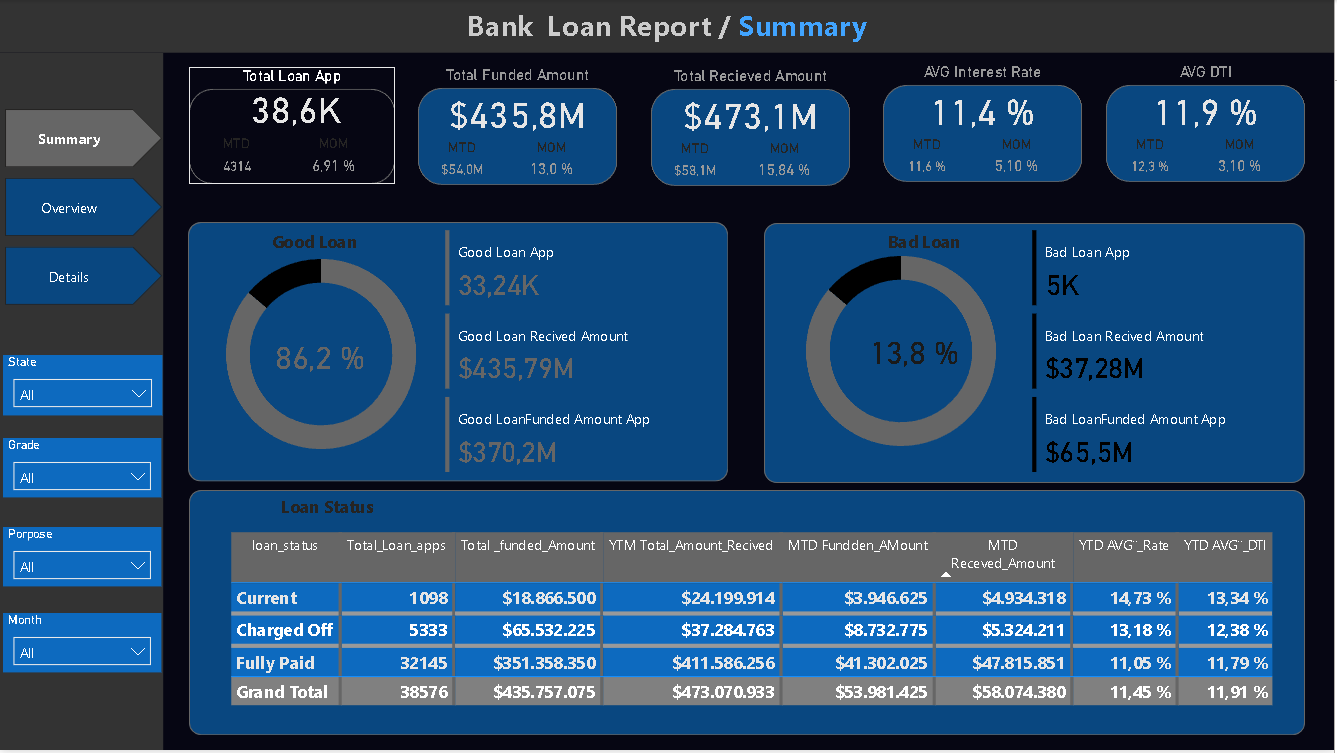

Layout of this report page (visuals, bound fields, positions):
{"tool":"powerbi","page":{"name":"Summary","canvas":[1280,720],"ordinal":0},"visuals":[{"type":"shape","title":"AVG Interest Rate","box":[847,60.4,191.3,114.3],"z":0,"group":"g5"},{"type":"shape","title":"AVG DTI","box":[1061.5,60.4,191.3,114.3],"z":0,"group":"g4"},{"type":"shape","title":"Total Funded Amount","box":[401.2,63.4,191.3,114.3],"z":0,"group":"g2"},{"type":"shape","title":"Total Recieved Amount ","box":[624.6,64.1,191.3,114.3],"z":0,"group":"g3"},{"type":"shape","title":"Total Loan App","box":[181.3,64.3,197.8,112.3],"z":0,"group":"g1"},{"type":"shape","box":[180.1,212.7,518.3,249.1],"z":0},{"type":"card","fields":{"Values":["bank-data.Total_Loan_apps"]},"box":[191.8,76.5,185.4,52.6],"z":1000,"group":"g1"},{"type":"card","fields":{"Values":["bank-data.YTD AVG¨_Rate"]},"box":[857.5,80,169.2,50.1],"z":1000,"group":"g5"},{"type":"card","fields":{"Values":["bank-data.YTD AVG¨_DTI"]},"box":[1072,80,169.2,50.1],"z":1000,"group":"g4"},{"type":"card","fields":{"Values":["bank-data.Total _funded_Amount"]},"box":[411.7,83,169.2,50.1],"z":1000,"group":"g2"},{"type":"card","fields":{"Values":["bank-data.YTM Total_Amount_Recived"]},"box":[635.1,83.7,169.2,50.1],"z":1000,"group":"g3"},{"type":"donutChart","fields":{"Category":["bank-data.Good vs Bad Loan"],"Y":["bank-data.Total_Loan_apps"]},"box":[176.4,220.3,263.1,238],"z":1000},{"type":"shape","box":[0,0,1280,50.6],"z":2000},{"type":"card","title":"MTD ","fields":{"Values":["bank-data.MTD Loan_App"]},"box":[191.8,129.1,70.2,46.9],"z":2000,"group":"g1"},{"type":"card","title":"MTD ","fields":{"Values":["bank-data.MTD AVG_Rate"]},"box":[857.5,130,64.1,44.6],"z":2000,"group":"g5"},{"type":"card","title":"MTD ","fields":{"Values":["bank-data.MTD AVG_DTI"]},"box":[1072,130,64.1,44.6],"z":2000,"group":"g4"},{"type":"card","title":"MTD ","fields":{"Values":["bank-data.MTD Fundden_AMount"]},"box":[411.7,133,64.1,44.6],"z":2000,"group":"g2"},{"type":"card","title":"MTD ","fields":{"Values":["bank-data.MTD Receved_Amount"]},"box":[635.1,133.7,64.1,44.6],"z":2000,"group":"g3"},{"type":"shape","box":[0,50.6,156.6,669.2],"z":3000},{"type":"card","title":"MOM","fields":{"Values":["bank-data.MOM Loan_App"]},"box":[285,129.1,70.2,46.9],"z":3000,"group":"g1"},{"type":"card","title":"MOM","fields":{"Values":["bank-data.MOM AVG_Rate"]},"box":[942.6,130,64.1,44.6],"z":3000,"group":"g5"},{"type":"card","title":"MOM","fields":{"Values":["bank-data.MOM AVG_DTI"]},"box":[1157.1,130,64.1,44.6],"z":3000,"group":"g4"},{"type":"card","title":"MOM","fields":{"Values":["bank-data.MOM Total_Funded_amount"]},"box":[496.8,133,64.1,44.6],"z":3000,"group":"g2"},{"type":"card","title":"MOM","fields":{"Values":["bank-data.MOM Total_Receved_amount"]},"box":[720.2,133.7,64.1,44.6],"z":3000,"group":"g3"},{"type":"card","fields":{"Values":["bank-data.Good Loan %"]},"box":[245.4,317.4,122.2,47],"z":4000},{"type":"textbox","box":[408.5,0,463,50.6],"z":5000},{"type":"group","id":"g1","title":"Group 1","box":[181.3,64.3,197.7,112.3],"z":6000},{"type":"group","id":"g2","title":"Group 1","box":[401.2,63.4,190.8,114.3],"z":7000},{"type":"group","id":"g3","title":"Group 1","box":[624.6,64.1,190.8,113.3],"z":8000},{"type":"group","id":"g4","title":"Group 1","box":[1061.5,60.4,190.3,113.8],"z":9000},{"type":"group","id":"g5","title":"Group 1","box":[847,60.4,191.3,113.8],"z":10000},{"type":"shape","box":[732.9,214,518.9,249.5],"z":11000},{"type":"cardVisual","fields":{"Data":["bank-data.Good Loan App","bank-data.Good Loan Receved Amount","bank-data.Good L oanFunded Amount App"]},"box":[421.8,216.1,258.9,242.2],"z":12000},{"type":"textbox","box":[196.1,216.2,212.2,34.2],"z":13000},{"type":"textbox","box":[758,216.1,257.9,34.5],"z":14000},{"type":"shape","box":[181,470.6,1070.9,235.3],"z":15000},{"type":"donutChart","fields":{"Category":["bank-data.Good vs Bad Loan"],"Y":["bank-data.Total_Loan_apps"]},"box":[733.1,217.8,262.9,238],"z":16000},{"type":"card","fields":{"Values":["bank-data.Bad Loan %"]},"box":[815.4,313.2,122.2,47],"z":17000},{"type":"cardVisual","fields":{"Data":["bank-data.Bad Loan App","bank-data.Bad Loan Recived Amount","bank-data.Bad LoanFunded Amount App"]},"box":[985.6,216.1,258.9,242.2],"z":18000},{"type":"tableEx","fields":{"Values":["bank-data.loan_status","bank-data.Total_Loan_apps","bank-data.Total _funded_Amount","bank-data.YTM Total_Amount_Recived","bank-data.MTD Fundden_AMount","bank-data.MTD Receved_Amount","bank-data.YTD AVG¨_Rate","bank-data.YTD AVG¨_DTI"]},"box":[216.2,505.8,1016.6,183],"z":19000},{"type":"textbox","box":[206.1,470.6,215.2,35.2],"z":20000},{"type":"slicer","title":"State","fields":{"Values":["bank-data.address_state"]},"box":[2.9,340.6,152.6,57.6],"z":21000},{"type":"slicer","title":"Grade","fields":{"Values":["bank-data.grade"]},"box":[2.9,420.3,151.6,56.6],"z":22000},{"type":"slicer","title":"Porpose","fields":{"Values":["bank-data.purpose"]},"box":[2.9,505.7,151.6,56.6],"z":23000},{"type":"slicer","title":"Month","fields":{"Values":["Date_Table.Month"]},"box":[2.9,588.2,151.6,56.6],"z":24000},{"type":"pageNavigator","box":[4.8,104.6,151.6,188.1],"z":25000}]}

Visuals, with their boxes in screenshot pixels (x1, y1, x2, y2), scaled from the page's 1280x720 canvas onto the 1337x753 screenshot:
"AVG Interest Rate" shape: (x1=885, y1=63, x2=1085, y2=183)
"AVG DTI" shape: (x1=1109, y1=63, x2=1309, y2=183)
"Total Funded Amount" shape: (x1=419, y1=66, x2=619, y2=186)
"Total Recieved Amount " shape: (x1=652, y1=67, x2=852, y2=187)
"Total Loan App" shape: (x1=189, y1=67, x2=396, y2=185)
shape: (x1=188, y1=222, x2=730, y2=483)
card - bank-data.Total_Loan_apps: (x1=200, y1=80, x2=394, y2=135)
card - bank-data.YTD AVG¨_Rate: (x1=896, y1=84, x2=1072, y2=136)
card - bank-data.YTD AVG¨_DTI: (x1=1120, y1=84, x2=1296, y2=136)
card - bank-data.Total _funded_Amount: (x1=430, y1=87, x2=607, y2=139)
card - bank-data.YTM Total_Amount_Recived: (x1=663, y1=88, x2=840, y2=140)
donutChart - bank-data.Good vs Bad Loan x bank-data.Total_Loan_apps: (x1=184, y1=230, x2=459, y2=479)
shape: (x1=0, y1=0, x2=1336, y2=53)
"MTD " card: (x1=200, y1=135, x2=274, y2=184)
"MTD " card: (x1=896, y1=136, x2=963, y2=183)
"MTD " card: (x1=1120, y1=136, x2=1187, y2=183)
"MTD " card: (x1=430, y1=139, x2=497, y2=186)
"MTD " card: (x1=663, y1=140, x2=730, y2=186)
shape: (x1=0, y1=53, x2=164, y2=752)
"MOM" card: (x1=298, y1=135, x2=371, y2=184)
"MOM" card: (x1=985, y1=136, x2=1052, y2=183)
"MOM" card: (x1=1209, y1=136, x2=1276, y2=183)
"MOM" card: (x1=519, y1=139, x2=586, y2=186)
"MOM" card: (x1=752, y1=140, x2=819, y2=186)
card - bank-data.Good Loan %: (x1=256, y1=332, x2=384, y2=381)
textbox: (x1=427, y1=0, x2=910, y2=53)
"Group 1" group: (x1=189, y1=67, x2=396, y2=185)
"Group 1" group: (x1=419, y1=66, x2=618, y2=186)
"Group 1" group: (x1=652, y1=67, x2=852, y2=186)
"Group 1" group: (x1=1109, y1=63, x2=1308, y2=182)
"Group 1" group: (x1=885, y1=63, x2=1085, y2=182)
shape: (x1=766, y1=224, x2=1308, y2=485)
cardVisual - bank-data.Good Loan App x bank-data.Good Loan Receved Amount: (x1=441, y1=226, x2=711, y2=479)
textbox: (x1=205, y1=226, x2=426, y2=262)
textbox: (x1=792, y1=226, x2=1061, y2=262)
shape: (x1=189, y1=492, x2=1308, y2=738)
donutChart - bank-data.Good vs Bad Loan x bank-data.Total_Loan_apps: (x1=766, y1=228, x2=1040, y2=477)
card - bank-data.Bad Loan %: (x1=852, y1=328, x2=979, y2=377)
cardVisual - bank-data.Bad Loan App x bank-data.Bad Loan Recived Amount: (x1=1029, y1=226, x2=1300, y2=479)
tableEx - bank-data.loan_status x bank-data.Total_Loan_apps: (x1=226, y1=529, x2=1288, y2=720)
textbox: (x1=215, y1=492, x2=440, y2=529)
"State" slicer: (x1=3, y1=356, x2=162, y2=416)
"Grade" slicer: (x1=3, y1=440, x2=161, y2=499)
"Porpose" slicer: (x1=3, y1=529, x2=161, y2=588)
"Month" slicer: (x1=3, y1=615, x2=161, y2=674)
pageNavigator: (x1=5, y1=109, x2=163, y2=306)
